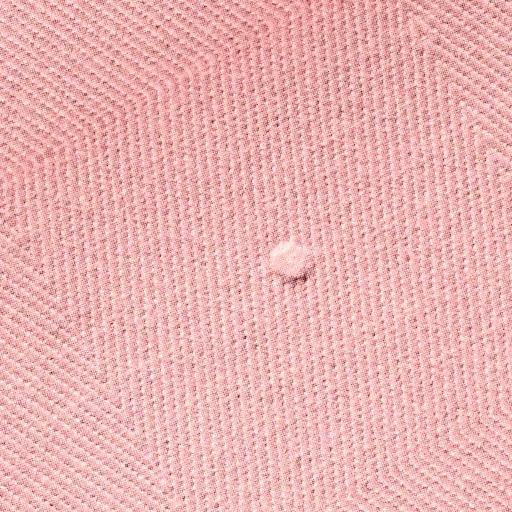knot: (261, 236, 326, 287)
